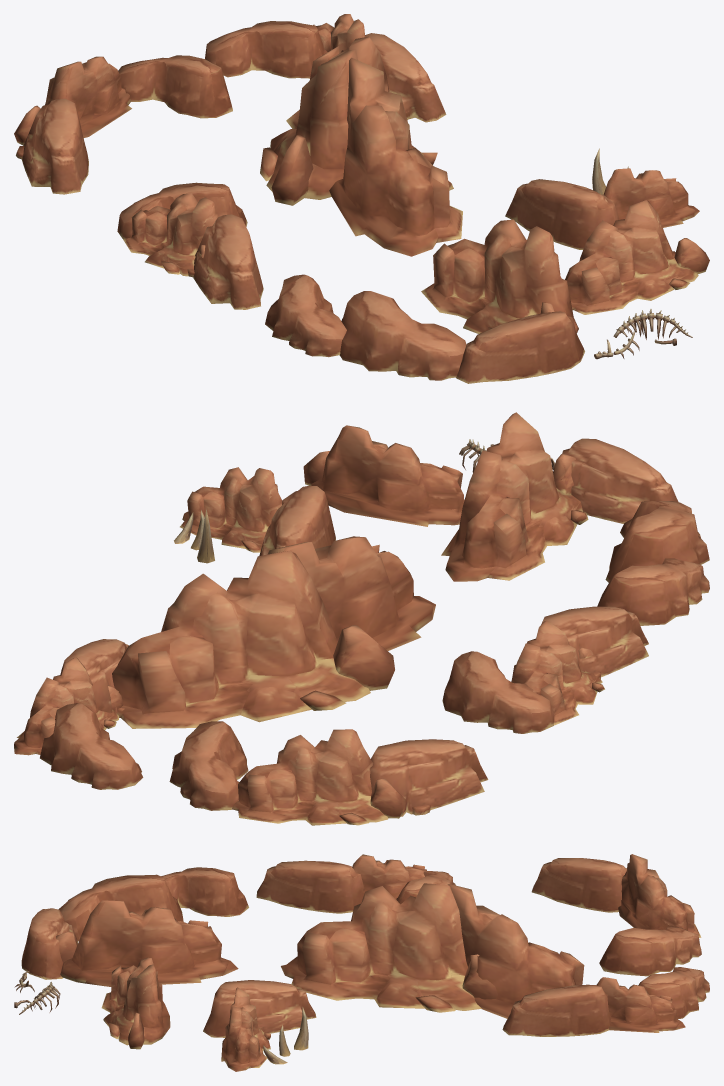
The model's file is rock_red03_y.FBX.
The picture shows the model from 3 angles, top to bottom: view 1: azimuth 30°, elevation 25°; view 2: azimuth 150°, elevation 25°; view 3: azimuth 270°, elevation 25°; orthographic projection. The views are drawn at different scales.
Parts seen in each view (by area): view 1: rock_red03_y; view 2: rock_red03_y; view 3: rock_red03_y.
Part boxes in pixels (box(x1,y1,x2,y2)): rock_red03_y: box(14, 14, 709, 383); rock_red03_y: box(14, 412, 709, 825); rock_red03_y: box(14, 854, 709, 1071).
Size of the model in its own units: 55.04 by 13.35 by 83.47.
1 material, 1 textured.
